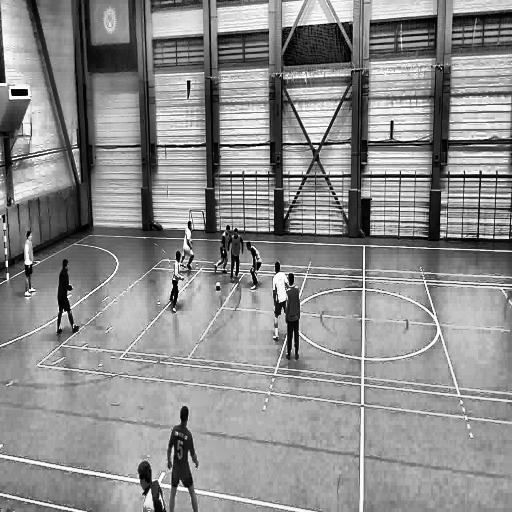ball: (215, 282, 221, 291)
player: (167, 405, 199, 511), (56, 258, 83, 338), (137, 459, 167, 512), (285, 273, 301, 363), (168, 250, 186, 315), (271, 260, 285, 342), (23, 230, 39, 299), (228, 228, 244, 282), (213, 225, 230, 274), (246, 240, 262, 292), (181, 220, 196, 271)
